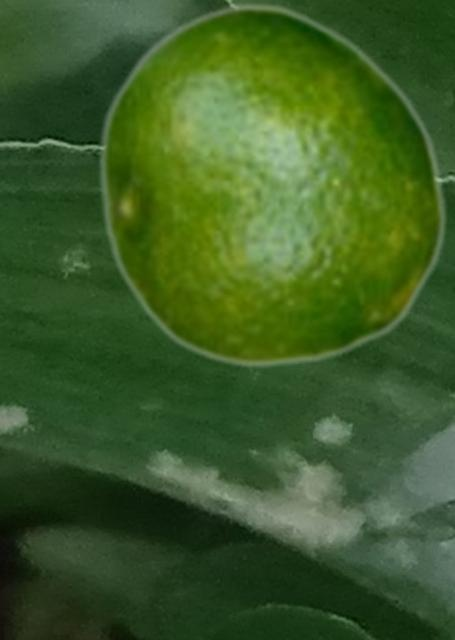calamansi: (96, 1, 448, 368)
